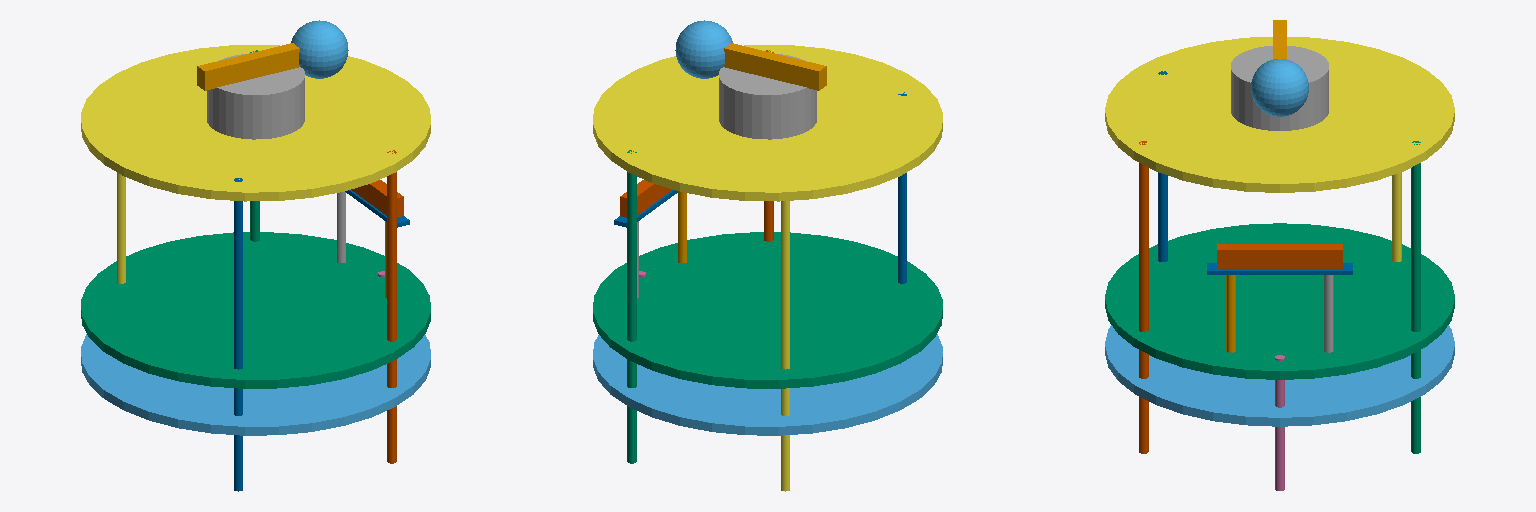
--- What the picture shows (computed from the rendered views, not written in the file) ---
Views: 3 orthographic renders of the robot side by side, from view 1: azimuth 30°, elevation 25°; view 2: azimuth 150°, elevation 25°; view 3: azimuth 270°, elevation 25°.
Model turtlebot2 with 26 links and 25 joints (2 continuous, 23 fixed), rooted at base_footprint, posed all joints at 0.
Visible links, largest first — view 1: middle_base_link, upper_base_link, lower_base_link, lidar_link, dir_link, base_tick4_link, dir_link2, base_tick3_link, base_tick2_link, camera_link, camera_support_tick1_link; view 2: middle_base_link, upper_base_link, lower_base_link, lidar_link, dir_link, base_tick1_link, dir_link2, base_tick2_link, base_tick3_link, camera_link, camera_support_tick2_link; view 3: middle_base_link, upper_base_link, lower_base_link, lidar_link, camera_link, dir_link2, base_tick4_link, base_tick1_link, camera_support_base_link, base_tick5_link, base_tick2_link, base_tick3_link (+3 smaller).
Link boxes in pixels (left/top/right/bottom): middle_base_link: left=81, top=232, right=430, bottom=388; upper_base_link: left=81, top=45, right=430, bottom=201; lower_base_link: left=81, top=334, right=430, bottom=435; lidar_link: left=207, top=54, right=304, bottom=139; dir_link: left=197, top=43, right=299, bottom=90; base_tick4_link: left=387, top=150, right=396, bottom=463; dir_link2: left=291, top=20, right=348, bottom=78; base_tick3_link: left=234, top=178, right=242, bottom=491; base_tick2_link: left=117, top=92, right=125, bottom=283; camera_link: left=351, top=180, right=403, bottom=217; camera_support_tick1_link: left=337, top=192, right=345, bottom=262; middle_base_link: left=593, top=232, right=942, bottom=388; upper_base_link: left=593, top=45, right=942, bottom=201; lower_base_link: left=593, top=334, right=942, bottom=435; lidar_link: left=719, top=54, right=816, bottom=139; dir_link: left=724, top=43, right=826, bottom=90; base_tick1_link: left=627, top=150, right=636, bottom=463; dir_link2: left=675, top=20, right=732, bottom=78; base_tick2_link: left=781, top=178, right=789, bottom=491; base_tick3_link: left=898, top=92, right=906, bottom=283; camera_link: left=620, top=180, right=672, bottom=217; camera_support_tick2_link: left=678, top=192, right=686, bottom=262; middle_base_link: left=1105, top=223, right=1454, bottom=379; upper_base_link: left=1105, top=37, right=1454, bottom=192; lower_base_link: left=1105, top=325, right=1454, bottom=426; lidar_link: left=1231, top=46, right=1328, bottom=130; camera_link: left=1217, top=244, right=1342, bottom=268; dir_link2: left=1251, top=59, right=1308, bottom=116; base_tick4_link: left=1139, top=141, right=1148, bottom=453; base_tick1_link: left=1411, top=141, right=1420, bottom=453; camera_support_base_link: left=1207, top=263, right=1352, bottom=274; base_tick5_link: left=1275, top=355, right=1284, bottom=490; base_tick2_link: left=1392, top=71, right=1401, bottom=261; base_tick3_link: left=1158, top=71, right=1167, bottom=261.
Bounding box of the posed robot: 0.36 × 0.36 × 0.4505 m (x, y, z).
Meshes: 2 distinct files referenced, 0 mesh visuals loaded (none loaded); not drawn: 3 (reference not matched to a file when rendering).

URDF robot description (turtlebot2):
<?xml version="1.0" ?>

<robot name="turtlebot2" xmlns:controller="http://playerstage.sourceforge.net/gazebo/xmlschema/#controller" xmlns:interface="http://playerstage.sourceforge.net/gazebo/xmlschema/#interface" xmlns:sensor="http://playerstage.sourceforge.net/gazebo/xmlschema/#sensor">
  <link name="base_footprint"/>
  <!--
       Base link is set at the bottom of the base mould.
       This is done to be compatible with the way base link
       was configured for turtlebot 1. Refer to

       https://github.com/turtlebot/turtlebot/issues/40

       To put the base link at the more oft used wheel
       axis, set the z-distance from the base_footprint
       to 0.352. 0.05949
      -->
  <joint name="base_joint" type="fixed">
    <origin rpy="0 0 0" xyz="0 0 0.0102"/>
    <parent link="base_footprint"/>
    <child link="base_link"/>
  </joint>
  <link name="base_link">
    <visual>
      <geometry>
        <!-- new mesh -->
        <mesh filename="package://turtlebot2_urdf_model/meshes/main_body.dae"/>
      </geometry>
      <origin rpy="0 0 0" xyz="0.001 0 0.05199"/>
    </visual>
    <collision name="base">
      <geometry>
        <cylinder length="0.10938" radius="0.178"/>
      </geometry>
      <origin rpy="0 0 0" xyz="0.0 0 0.06"/>
    </collision>
    <inertial>
      <!-- COM experimentally determined -->
      <origin xyz="0.01 0 0"/>
      <mass value="2.4"/>
      <!-- 2.4/2.6 kg for small/big battery pack -->
      <!-- Kobuki's inertia tensor is approximated by a cylinder with homogeneous mass distribution
             More details: http://en.wikipedia.org/wiki/List_of_moment_of_inertia_tensors
             m = 2.4 kg; h = 0.09 m; r = 0.175 m
             ixx = 1/12 * m * (3 * r^2 + h^2)
             iyy = 1/12 * m * (3 * r^2 + h^2)
             izz = 1/2 * m * r^2
          -->
      <inertia ixx="0.019995" ixy="0.0" ixz="0.0" iyy="0.019995" iyz="0.0" izz="0.03675"/>
    </inertial>
  </link>
  <joint name="wheel_left_joint" type="continuous">
    <parent link="base_link"/>
    <child link="wheel_left_link"/>
    <origin rpy="-1.5707963267948966 0 0" xyz="0.00 0.115 0.0250"/>
    <axis xyz="0 0 1"/>
  </joint>
  <link name="wheel_left_link">
    <visual>
      <geometry>
        <mesh filename="package://turtlebot2_urdf_model/meshes/wheel.dae"/>
      </geometry>
      <origin rpy="0 0 0" xyz="0 0 0"/>
    </visual>
    <collision>
      <geometry>
        <cylinder length="0.0206" radius="0.035"/>
      </geometry>
      <origin rpy="0 0 0" xyz="0 0 0"/>
    </collision>
    <inertial>
      <mass value="0.01"/>
      <origin xyz="0 0 0"/>
      <inertia ixx="0.001" ixy="0.0" ixz="0.0" iyy="0.001" iyz="0.0" izz="0.001"/>
    </inertial>
  </link>
  <joint name="wheel_right_joint" type="continuous">
    <parent link="base_link"/>
    <child link="wheel_right_link"/>
    <origin rpy="-1.5707963267948966 0 0" xyz="0.00 -0.115 0.0250"/>
    <axis xyz="0 0 1"/>
  </joint>
  <link name="wheel_right_link">
    <visual>
      <geometry>
        <mesh filename="package://turtlebot2_urdf_model/meshes/wheel.dae"/>
      </geometry>
      <origin rpy="0 0 0" xyz="0 0 0"/>
    </visual>
    <collision>
      <geometry>
        <cylinder length="0.0206" radius="0.035"/>
      </geometry>
      <origin rpy="0 0 0" xyz="0 0 0"/>
    </collision>
    <inertial>
      <mass value="0.01"/>
      <origin xyz="0 0 0"/>
      <inertia ixx="0.001" ixy="0.0" ixz="0.0" iyy="0.001" iyz="0.0" izz="0.001"/>
    </inertial>
  </link>
  <joint name="caster_front_joint" type="fixed">
    <parent link="base_link"/>
    <child link="caster_front_link"/>
    <origin rpy="-1.5707963267948966 0 0" xyz="0.115 0.0 0.007"/>
  </joint>
  <link name="caster_front_link">
    <collision>
      <geometry>
        <cylinder length="0.0176" radius="0.017"/>
      </geometry>
      <origin rpy="0 0 0" xyz="0 0 0"/>
    </collision>
    <inertial>
      <mass value="0.01"/>
      <origin xyz="0 0 0"/>
      <inertia ixx="0.001" ixy="0.0" ixz="0.0" iyy="0.001" iyz="0.0" izz="0.001"/>
    </inertial>
  </link>
  <joint name="caster_back_joint" type="fixed">
    <parent link="base_link"/>
    <child link="caster_back_link"/>
    <origin rpy="-1.5707963267948966 0 0" xyz="-0.135 0.0 0.009"/>
  </joint>
  <link name="caster_back_link">
    <collision>
      <geometry>
        <cylinder length="0.0176" radius="0.017"/>
      </geometry>
      <origin rpy="0 0 0" xyz="0 0 0"/>
    </collision>
    <inertial>
      <mass value="0.01"/>
      <origin xyz="0 0 0"/>
      <inertia ixx="0.001" ixy="0.0" ixz="0.0" iyy="0.001" iyz="0.0" izz="0.001"/>
    </inertial>
  </link>
  <!-- Kobuki's sensors -->
  <joint name="gyro_joint" type="fixed">
    <axis xyz="0 1 0"/>
    <origin rpy="0 0 0" xyz="0.056 0.062 0.0202"/>
    <parent link="base_link"/>
    <child link="gyro_link"/>
  </joint>
  <link name="gyro_link">
    <inertial>
      <mass value="0.001"/>
      <origin rpy="0 0 0" xyz="0 0 0"/>
      <inertia ixx="0.0001" ixy="0" ixz="0" iyy="0.000001" iyz="0" izz="0.0001"/>
    </inertial>
  </link>
  <joint name="cliff_sensor_left_joint" type="fixed">
    <origin rpy="0 1.5707963267948966 0" xyz="0.08734 0.13601 0.0214"/>
    <parent link="base_link"/>
    <child link="cliff_sensor_left_link"/>
  </joint>
  <link name="cliff_sensor_left_link">
    <inertial>
      <mass value="0.0001"/>
      <origin xyz="0 0 0"/>
      <inertia ixx="0.0001" ixy="0.0" ixz="0.0" iyy="0.0001" iyz="0.0" izz="0.0001"/>
    </inertial>
  </link>
  <joint name="cliff_sensor_right_joint" type="fixed">
    <origin rpy="0 1.5707963267948966 0" xyz="0.085 -0.13601 0.0214"/>
    <parent link="base_link"/>
    <child link="cliff_sensor_right_link"/>
  </joint>
  <link name="cliff_sensor_right_link">
    <inertial>
      <mass value="0.0001"/>
      <origin xyz="0 0 0"/>
      <inertia ixx="0.0001" ixy="0.0" ixz="0.0" iyy="0.0001" iyz="0.0" izz="0.0001"/>
    </inertial>
  </link>
  <joint name="cliff_sensor_front_joint" type="fixed">
    <origin rpy="0 1.5707963267948966 0" xyz="0.156 0.00 0.0214"/>
    <parent link="base_link"/>
    <child link="cliff_sensor_front_link"/>
  </joint>
  <link name="cliff_sensor_front_link">
    <inertial>
      <mass value="0.0001"/>
      <origin xyz="0 0 0"/>
      <inertia ixx="0.0001" ixy="0.0" ixz="0.0" iyy="0.0001" iyz="0.0" izz="0.0001"/>
    </inertial>
  </link>
  <gazebo reference="wheel_left_link">
    <mu1>1.0</mu1>
    <mu2>1.0</mu2>
    <kp>1000000.0</kp>
    <kd>100.0</kd>
    <minDepth>0.001</minDepth>
    <maxVel>1.0</maxVel>
  </gazebo>
  <gazebo reference="wheel_right_link">
    <mu1>1.0</mu1>
    <mu2>1.0</mu2>
    <kp>1000000.0</kp>
    <kd>100.0</kd>
    <minDepth>0.001</minDepth>
    <maxVel>1.0</maxVel>
  </gazebo>
  <gazebo reference="caster_front_link">
    <mu1>0.0</mu1>
    <mu2>0.0</mu2>
    <kp>1000000.0</kp>
    <kd>100.0</kd>
    <minDepth>0.001</minDepth>
    <maxVel>1.0</maxVel>
  </gazebo>
  <gazebo reference="caster_back_link">
    <mu1>0.0</mu1>
    <mu2>0.0</mu2>
    <kp>1000000.0</kp>
    <kd>100.0</kd>
    <minDepth>0.001</minDepth>
    <maxVel>1.0</maxVel>
  </gazebo>
  <gazebo reference="base_link">
    <mu1>0.3</mu1>
    <mu2>0.3</mu2>
    <sensor name="bumpers" type="contact">
      <always_on>1</always_on>
      <update_rate>50.0</update_rate>
      <visualize>true</visualize>
      <contact>
        <collision>base_footprint_fixed_joint_lump__base_collision</collision>
      </contact>
    </sensor>
  </gazebo>
  <gazebo reference="cliff_sensor_left_link">
    <sensor name="cliff_sensor_left" type="ray">
      <always_on>true</always_on>
      <update_rate>50</update_rate>
      <visualize>true</visualize>
      <ray>
        <scan>
          <horizontal>
            <samples>50</samples>
            <resolution>1.0</resolution>
            <min_angle>-0.0436</min_angle>
            <!-- -2.5 degree -->
            <max_angle>0.0436</max_angle>
            <!-- 2.5 degree -->
          </horizontal>
          <!--            Can't use vertical rays until this bug is resolved: -->
          <!--            https://bitbucket.org/osrf/gazebo/issue/509/vertical-sensor-doesnt-works -->
          <!-- 	          <vertical> -->
          <!-- 	            <samples>50</samples> -->
          <!-- 	            <resolution>1.0</resolution> -->
          <!-- 	            <min_angle>-0.0436</min_angle>  -2.5 degree -->
          <!-- 	            <max_angle>0.0436</max_angle> 2.5 degree -->
          <!-- 	          </vertical> -->
        </scan>
        <range>
          <min>0.01</min>
          <max>0.15</max>
          <resolution>1.0</resolution>
        </range>
      </ray>
    </sensor>
  </gazebo>
  <gazebo reference="cliff_sensor_right_link">
    <sensor name="cliff_sensor_right" type="ray">
      <always_on>true</always_on>
      <update_rate>50</update_rate>
      <visualize>true</visualize>
      <ray>
        <scan>
          <horizontal>
            <samples>50</samples>
            <resolution>1.0</resolution>
            <min_angle>-0.0436</min_angle>
            <!-- -2.5 degree -->
            <max_angle>0.0436</max_angle>
            <!-- 2.5 degree -->
          </horizontal>
          <!--            Can't use vertical rays until this bug is resolved: -->
          <!--            https://bitbucket.org/osrf/gazebo/issue/509/vertical-sensor-doesnt-works -->
          <!-- 	          <vertical> -->
          <!-- 	            <samples>50</samples> -->
          <!-- 	            <resolution>1.0</resolution> -->
          <!-- 	            <min_angle>-0.0436</min_angle>  -2.5 degree -->
          <!-- 	            <max_angle>0.0436</max_angle> 2.5 degree -->
          <!-- 	          </vertical> -->
        </scan>
        <range>
          <min>0.01</min>
          <max>0.15</max>
          <resolution>1.0</resolution>
        </range>
      </ray>
    </sensor>
  </gazebo>
  <gazebo reference="cliff_sensor_front_link">
    <sensor name="cliff_sensor_front" type="ray">
      <always_on>true</always_on>
      <update_rate>50</update_rate>
      <visualize>true</visualize>
      <ray>
        <scan>
          <horizontal>
            <samples>50</samples>
            <resolution>1.0</resolution>
            <min_angle>-0.0436</min_angle>
            <!-- -2.5 degree -->
            <max_angle>0.0436</max_angle>
            <!-- 2.5 degree -->
          </horizontal>
          <!-- 	          Can't use vertical rays until this bug is resolved: -->
          <!--            https://bitbucket.org/osrf/gazebo/issue/509/vertical-sensor-doesnt-works -->
          <!-- 	          <vertical> -->
          <!-- 	            <samples>50</samples> -->
          <!-- 	            <resolution>1.0</resolution> -->
          <!-- 	            <min_angle>-0.0436</min_angle>  -2.5 degree -->
          <!-- 	            <max_angle>0.0436</max_angle> 2.5 degree -->
          <!-- 	          </vertical> -->
        </scan>
        <range>
          <min>0.01</min>
          <max>0.15</max>
          <resolution>1.0</resolution>
        </range>
      </ray>
    </sensor>
  </gazebo>
  <gazebo reference="gyro_link">
    <sensor name="imu" type="imu">
      <plugin filename="libgazebo_ros_imu_sensor.so" name="gazebo_ros_imu_controller">
      	<robotNamespace>turtlebot2</robotNamespace>
        <ros>
          <argument>~/out:=imu</argument>
        </ros>
        <output_type>sensor_msgs/msg/Imu</output_type>
        <bodyName>gyro_link</bodyName>
        <frameName>gyro_link</frameName>
        <topicName>imu_data</topicName>
      </plugin>
      <always_on>true</always_on>
      <update_rate>50</update_rate>
      <visualize>false</visualize>
      <imu>
        <noise>
          <type>gaussian</type>
          <rate>
            <mean>0.0</mean>
            <stddev>1.96e-06</stddev>
            <!-- 0.25 x 0.25 (deg/s) -->
            <bias_mean>0.0</bias_mean>
            <bias_stddev>0.0</bias_stddev>
          </rate>
          <accel>
            <!-- not used in the plugin and real robot, hence using tutorial values -->
            <mean>0.0</mean>
            <stddev>1.7e-2</stddev>
            <bias_mean>0.1</bias_mean>
            <bias_stddev>0.001</bias_stddev>
          </accel>
        </noise>
      </imu>
    </sensor>
  </gazebo>
  <gazebo>
    <plugin filename="libgazebo_ros_diff_drive.so" name="differential_drive_controller">
      <robotNamespace>turtlebot2</robotNamespace>
      <updateRate>10</updateRate>
      <commandTopic>cmd_vel</commandTopic>
      <leftJoint>wheel_left_joint</leftJoint>
      <rightJoint>wheel_right_joint</rightJoint>
      <wheelSeparation>0.230</wheelSeparation>
      <wheelDiameter>0.070</wheelDiameter>
      <wheelTorque>1.0</wheelTorque>
      <wheelAcceleration>1.0</wheelAcceleration>
      <!-- output -->
      <publishOdom>true</publishOdom>
      <publishOdomTF>true</publishOdomTF>
      <publishWheelTF>true</publishWheelTF>
      <odometryTopic>odom</odometryTopic>
      <odometryFrame>odom</odometryFrame>
      <robotBaseFrame>base_link</robotBaseFrame>
    </plugin>
  </gazebo>
  <material name="Gray">
    <color rgba="0.5 0.5 0.5 1"/>
  </material>
  <material name="DarkGray">
    <color rgba="0.1 0.1 0.1 0.5"/>
  </material>
  <material name="Black">
    <color rgba="0 0 0 1"/>
  </material>
  <gazebo reference="base_tick1_link">
    <material>Gazebo/Gray</material>
  </gazebo>
  <gazebo reference="base_tick2_link">
    <material>Gazebo/Gray</material>
  </gazebo>
  <gazebo reference="base_tick3_link">
    <material>Gazebo/Gray</material>
  </gazebo>
  <gazebo reference="base_tick4_link">
    <material>Gazebo/Gray</material>
  </gazebo>
  <gazebo reference="base_tick5_link">
    <material>Gazebo/Gray</material>
  </gazebo>
  <gazebo reference="camera_support_tick1_link">
    <material>Gazebo/Gray</material>
  </gazebo>
  <gazebo reference="camera_support_tick2_link">
    <material>Gazebo/Gray</material>
  </gazebo>
  <gazebo reference="lower_base_link">
    <material>Gazebo/DarkGrey</material>
  </gazebo>
  <gazebo reference="middle_base_link">
    <material>Gazebo/DarkGrey</material>
  </gazebo>
  <gazebo reference="upper_base_link">
    <material>Gazebo/DarkGrey</material>
  </gazebo>
  <gazebo reference="camera_support_base_link">
    <material>Gazebo/DarkGrey</material>
  </gazebo>
  <gazebo reference="camera_link">
    <material>Gazebo/Blue</material>
  </gazebo>
  <gazebo reference="lidar_link">
    <material>Gazebo/Black</material>
  </gazebo>
  <gazebo reference="dir_link">
    <material>Gazebo/Red</material>
  </gazebo>
  <gazebo reference="dir_link2">
    <material>Gazebo/Red</material>
  </gazebo>
  <link name="base_tick1_link">
    <visual>
      <origin rpy="0 0 0" xyz="0 0 0"/>
      <geometry>
        <cylinder length="0.35" radius="0.005"/>
      </geometry>
    </visual>
    <collision name="base">
      <origin rpy="0 0 0" xyz="0 0 0"/>
      <geometry>
        <cylinder length="0.35" radius="0.005"/>
      </geometry>
    </collision>
    <inertial>
      <mass value="0.3"/>
      <!-- cylindrical shell : Izz=m*r^2; Ixx=Iyy=1/12*m*(6*r^2+h^2) -->
      <!-- solid cylinder : Izz=(m*r^2)/2; Ixx=Iyy=1/12*m*(3*r^2+h^2) -->
      <inertia ixx="0.002385" ixy="0.00" ixz="0.00" iyy="0.002385" iyz="0.00" izz="0.00027"/>
    </inertial>
  </link>
  <joint name="base_tick1_joint" type="fixed">
    <origin rpy="0 0 0" xyz="0.08 0.14 0.25"/>
    <parent link="base_link"/>
    <child link="base_tick1_link"/>
  </joint>
  <link name="base_tick2_link">
    <visual>
      <origin rpy="0 0 0" xyz="0 0 0"/>
      <geometry>
        <cylinder length="0.35" radius="0.005"/>
      </geometry>
    </visual>
    <collision name="base">
      <origin rpy="0 0 0" xyz="0 0 0"/>
      <geometry>
        <cylinder length="0.35" radius="0.005"/>
      </geometry>
    </collision>
    <inertial>
      <mass value="0.3"/>
      <!-- cylindrical shell : Izz=m*r^2; Ixx=Iyy=1/12*m*(6*r^2+h^2) -->
      <!-- solid cylinder : Izz=(m*r^2)/2; Ixx=Iyy=1/12*m*(3*r^2+h^2) -->
      <inertia ixx="0.002385" ixy="0.00" ixz="0.00" iyy="0.002385" iyz="0.00" izz="0.00027"/>
    </inertial>
  </link>
  <joint name="base_tick2_joint" type="fixed">
    <origin rpy="0 0 0" xyz="-0.09 0.12 0.25"/>
    <parent link="base_link"/>
    <child link="base_tick2_link"/>
  </joint>
  <link name="base_tick3_link">
    <visual>
      <origin rpy="0 0 0" xyz="0 0 0"/>
      <geometry>
        <cylinder length="0.35" radius="0.005"/>
      </geometry>
    </visual>
    <collision name="base">
      <origin rpy="0 0 0" xyz="0 0 0"/>
      <geometry>
        <cylinder length="0.35" radius="0.005"/>
      </geometry>
    </collision>
    <inertial>
      <mass value="0.3"/>
      <!-- cylindrical shell : Izz=m*r^2; Ixx=Iyy=1/12*m*(6*r^2+h^2) -->
      <!-- solid cylinder : Izz=(m*r^2)/2; Ixx=Iyy=1/12*m*(3*r^2+h^2) -->
      <inertia ixx="0.002385" ixy="0.00" ixz="0.00" iyy="0.002385" iyz="0.00" izz="0.00027"/>
    </inertial>
  </link>
  <joint name="base_tick3_joint" type="fixed">
    <origin rpy="0 0 0" xyz="-0.09 -0.12 0.25"/>
    <parent link="base_link"/>
    <child link="base_tick3_link"/>
  </joint>
  <link name="base_tick4_link">
    <visual>
      <origin rpy="0 0 0" xyz="0 0 0"/>
      <geometry>
        <cylinder length="0.35" radius="0.005"/>
      </geometry>
    </visual>
    <collision name="base">
      <origin rpy="0 0 0" xyz="0 0 0"/>
      <geometry>
        <cylinder length="0.35" radius="0.005"/>
      </geometry>
    </collision>
    <inertial>
      <mass value="0.3"/>
      <!-- cylindrical shell : Izz=m*r^2; Ixx=Iyy=1/12*m*(6*r^2+h^2) -->
      <!-- solid cylinder : Izz=(m*r^2)/2; Ixx=Iyy=1/12*m*(3*r^2+h^2) -->
      <inertia ixx="0.002385" ixy="0.00" ixz="0.00" iyy="0.002385" iyz="0.00" izz="0.00027"/>
    </inertial>
  </link>
  <joint name="base_tick4_joint" type="fixed">
    <origin rpy="0 0 0" xyz="0.08 -0.14 0.25"/>
    <parent link="base_link"/>
    <child link="base_tick4_link"/>
  </joint>
  <link name="base_tick5_link">
    <visual>
      <origin rpy="0 0 0" xyz="0 0 0"/>
      <geometry>
        <cylinder length="0.15" radius="0.005"/>
      </geometry>
    </visual>
    <collision name="base">
      <origin rpy="0 0 0" xyz="0 0 0"/>
      <geometry>
        <cylinder length="0.15" radius="0.005"/>
      </geometry>
    </collision>
    <inertial>
      <mass value="0.3"/>
      <!-- cylindrical shell : Izz=m*r^2; Ixx=Iyy=1/12*m*(6*r^2+h^2) -->
      <!-- solid cylinder : Izz=(m*r^2)/2; Ixx=Iyy=1/12*m*(3*r^2+h^2) -->
      <inertia ixx="0.002385" ixy="0.00" ixz="0.00" iyy="0.002385" iyz="0.00" izz="0.00027"/>
    </inertial>
  </link>
  <joint name="base_tick5_joint" type="fixed">
    <origin rpy="0 0 0" xyz="0.15 0.0 0.14"/>
    <parent link="base_link"/>
    <child link="base_tick5_link"/>
  </joint>
  <link name="camera_support_tick1_link">
    <visual>
      <origin rpy="0 0 0" xyz="0 0 0"/>
      <geometry>
        <cylinder length="0.1" radius="0.005"/>
      </geometry>
    </visual>
    <collision name="base">
      <origin rpy="0 0 0" xyz="0 0 0"/>
      <geometry>
        <cylinder length="0.1" radius="0.005"/>
      </geometry>
    </collision>
    <inertial>
      <mass value="0.3"/>
      <!-- cylindrical shell : Izz=m*r^2; Ixx=Iyy=1/12*m*(6*r^2+h^2) -->
      <!-- solid cylinder : Izz=(m*r^2)/2; Ixx=Iyy=1/12*m*(3*r^2+h^2) -->
      <inertia ixx="0.002385" ixy="0.00" ixz="0.00" iyy="0.002385" iyz="0.00" izz="0.00027"/>
    </inertial>
  </link>
  <joint name="camera_support_tick1_joint" type="fixed">
    <origin rpy="0 0 0" xyz="0.13 0.05 0.05"/>
    <parent link="middle_base_link"/>
    <child link="camera_support_tick1_link"/>
  </joint>
  <link name="camera_support_tick2_link">
    <visual>
      <origin rpy="0 0 0" xyz="0 0 0"/>
      <geometry>
        <cylinder length="0.1" radius="0.005"/>
      </geometry>
    </visual>
    <collision name="base">
      <origin rpy="0 0 0" xyz="0 0 0"/>
      <geometry>
        <cylinder length="0.1" radius="0.005"/>
      </geometry>
    </collision>
    <inertial>
      <mass value="0.3"/>
      <!-- cylindrical shell : Izz=m*r^2; Ixx=Iyy=1/12*m*(6*r^2+h^2) -->
      <!-- solid cylinder : Izz=(m*r^2)/2; Ixx=Iyy=1/12*m*(3*r^2+h^2) -->
      <inertia ixx="0.002385" ixy="0.00" ixz="0.00" iyy="0.002385" iyz="0.00" izz="0.00027"/>
    </inertial>
  </link>
  <joint name="camera_support_tick2_joint" type="fixed">
    <origin rpy="0 0 0" xyz="0.13 -0.05 0.05"/>
    <parent link="middle_base_link"/>
    <child link="camera_support_tick2_link"/>
  </joint>
  <link name="lower_base_link">
    <visual>
      <origin rpy="0 0 0" xyz="0 0 0"/>
      <geometry>
        <cylinder length="0.01" radius="0.18"/>
      </geometry>
    </visual>
    <collision name="base">
      <origin rpy="0 0 0" xyz="0 0 0"/>
      <geometry>
        <cylinder length="0.01" radius="0.18"/>
      </geometry>
    </collision>
    <inertial>
      <mass value="0.3"/>
      <!-- cylindrical shell : Izz=m*r^2; Ixx=Iyy=1/12*m*(6*r^2+h^2) -->
      <!-- solid cylinder : Izz=(m*r^2)/2; Ixx=Iyy=1/12*m*(3*r^2+h^2) -->
      <inertia ixx="0.002385" ixy="0.00" ixz="0.00" iyy="0.002385" iyz="0.00" izz="0.00027"/>
    </inertial>
  </link>
  <joint name="lower_base_joint" type="fixed">
    <origin rpy="0 0 0" xyz="0.0 0.0 0.155"/>
    <parent link="base_link"/>
    <child link="lower_base_link"/>
  </joint>
  <link name="middle_base_link">
    <visual>
      <origin rpy="0 0 0" xyz="0 0 0"/>
      <geometry>
        <cylinder length="0.01" radius="0.18"/>
      </geometry>
    </visual>
    <collision name="base">
      <origin rpy="0 0 0" xyz="0 0 0"/>
      <geometry>
        <cylinder length="0.01" radius="0.18"/>
      </geometry>
    </collision>
    <inertial>
      <mass value="0.3"/>
      <!-- cylindrical shell : Izz=m*r^2; Ixx=Iyy=1/12*m*(6*r^2+h^2) -->
      <!-- solid cylinder : Izz=(m*r^2)/2; Ixx=Iyy=1/12*m*(3*r^2+h^2) -->
      <inertia ixx="0.002385" ixy="0.00" ixz="0.00" iyy="0.002385" iyz="0.00" izz="0.00027"/>
    </inertial>
  </link>
  <joint name="middle_base_joint" type="fixed">
    <origin rpy="0 0 0" xyz="0.0 0.0 0.208"/>
    <parent link="base_link"/>
    <child link="middle_base_link"/>
  </joint>
  <link name="upper_base_link">
    <visual>
      <origin rpy="0 0 0" xyz="0 0 0"/>
      <geometry>
        <cylinder length="0.01" radius="0.18"/>
      </geometry>
    </visual>
    <collision name="base">
      <origin rpy="0 0 0" xyz="0 0 0"/>
      <geometry>
        <cylinder length="0.01" radius="0.18"/>
      </geometry>
    </collision>
    <inertial>
      <mass value="0.3"/>
      <!-- cylindrical shell : Izz=m*r^2; Ixx=Iyy=1/12*m*(6*r^2+h^2) -->
      <!-- solid cylinder : Izz=(m*r^2)/2; Ixx=Iyy=1/12*m*(3*r^2+h^2) -->
      <inertia ixx="0.002385" ixy="0.00" ixz="0.00" iyy="0.002385" iyz="0.00" izz="0.00027"/>
    </inertial>
  </link>
  <joint name="upper_base_joint" type="fixed">
    <origin rpy="0 0 0" xyz="0.0 0.0 0.42"/>
    <parent link="base_link"/>
    <child link="upper_base_link"/>
  </joint>
  <link name="camera_support_base_link">
    <visual>
      <origin rpy="0 0 0" xyz="0 0 0"/>
      <geometry>
        <box size="0.0175 0.15 0.005"/>
      </geometry>
    </visual>
    <collision name="base">
      <origin rpy="0 0 0" xyz="0 0 0"/>
      <geometry>
        <box size="0.0175 0.15 0.005"/>
      </geometry>
    </collision>
    <inertial>
      <mass value="0.3"/>
      <inertia ixx="1.0" ixy="0.0" ixz="0.0" iyy="100.0" iyz="0.0" izz="1.0"/>
    </inertial>
  </link>
  <joint name="camera_support_base_joint" type="fixed">
    <origin rpy="0 0 0" xyz="0.13 0 0.0975"/>
    <parent link="middle_base_link"/>
    <child link="camera_support_base_link"/>
  </joint>
  <link name="camera_link">
    <visual>
      <origin rpy="0 0 0" xyz="0 0 0"/>
      <geometry>
        <box size="0.015 0.130 0.022"/>
      </geometry>
    </visual>
    <collision>
      <origin rpy="0 0 0" xyz="0 0 0"/>
      <geometry>
        <box size="0.015 0.130 0.022"/>
      </geometry>
    </collision>
    <inertial>
      <origin rpy="0 0 0" xyz="0 0 0"/>
      <mass value="0.035"/>
      <inertia ixx="0.001" ixy="0" ixz="0" iyy="0.001" iyz="0" izz="0.001"/>
    </inertial>
  </link>
  <joint name="camera_joint" type="fixed">
    <parent link="base_link"/>
    <child link="camera_link"/>
    <origin rpy="0 0 0" xyz="0.13 0 0.32"/>
  </joint>
  <link name="camera_depth_frame"/>
  <joint name="camera_depth_joint" type="fixed">
    <origin rpy="-1.5707963267948966 0 -1.5707963267948966" xyz="0 0 0"/>
    <parent link="camera_link"/>
    <child link="camera_depth_frame"/>
  </joint>
  <gazebo reference="camera_link">
    <sensor name="depth_camera" type="depth">
      <visualize>true</visualize>
      <update_rate>30.0</update_rate>
      <camera name="camera">
        <horizontal_fov>1.047198</horizontal_fov>
        <image>
          <width>640</width>
          <height>480</height>
          <format>R8G8B8</format>
        </image>
        <clip>
          <near>0.05</near>
          <far>6</far>
        </clip>
      </camera>
      <plugin filename="libgazebo_ros_camera.so" name="depth_camera_controller">
        <robotNamespace>turtlebot2</robotNamespace>
        <baseline>0.2</baseline>
        <alwaysOn>true</alwaysOn>
        <updateRate>0.0</updateRate>
        <cameraName>camera</cameraName>
        <frameName>camera_depth_frame</frameName>
        <pointCloudCutoff>0.5</pointCloudCutoff>
        <pointCloudCutoffMax>6.0</pointCloudCutoffMax>
        <distortionK1>0</distortionK1>
        <distortionK2>0</distortionK2>
        <distortionK3>0</distortionK3>
        <distortionT1>0</distortionT1>
        <distortionT2>0</distortionT2>
        <CxPrime>0</CxPrime>
        <Cx>0</Cx>
        <Cy>0</Cy>
        <focalLength>0</focalLength>
        <hackBaseline>0</hackBaseline>
      </plugin>
    </sensor>
  </gazebo>
  <link name="lidar_link">
    <inertial>
      <origin rpy="0 0 0" xyz="0 0 0"/>
      <mass value="0.125"/>
      <inertia ixx="0.001" ixy="0" ixz="0" iyy="0.001" iyz="0" izz="0.001"/>
    </inertial>
    <collision>
      <origin rpy="0 0 0" xyz="0 0 0"/>
      <geometry>
        <cylinder length="0.055" radius="0.0508"/>
      </geometry>
    </collision>
    <visual>
      <origin rpy="0 0 0" xyz="0 0 0"/>
      <geometry>
        <cylinder length="0.055" radius="0.0508"/>
      </geometry>
    </visual>
  </link>
  <joint name="lidar_joint" type="fixed">
    <parent link="upper_base_link"/>
    <child link="lidar_link"/>
    <origin rpy="0 0 0" xyz="0 0 0.0275"/>
  </joint>
    <gazebo reference="lidar_link">
    <sensor name="lidar" type="ray">
      <always_on>false</always_on>
      <visualize>false</visualize>
      <update_rate>5</update_rate>
      <ray>
        <scan>
          <horizontal>
            <samples>360</samples>
            <resolution>1.000000</resolution>
            <min_angle>0.000000</min_angle>
            <max_angle>6.280000</max_angle>
          </horizontal>
        </scan>
        <range>
          <min>0.120000</min>
          <max>3.5</max>
          <resolution>0.015000</resolution>
        </range>
        <noise>
          <type>gaussian</type>
          <mean>0.0</mean>
          <stddev>0.01</stddev>
        </noise>
      </ray>
      <plugin filename="libgazebo_ros_ray_sensor.so" name="scan">
        <ros>
          <remapping>~/out:=scan</remapping>
        </ros>
        <output_type>sensor_msgs/LaserScan</output_type>
        <frameName>lidar_link</frameName>
      </plugin>
    </sensor>
  </gazebo>
   <link name="dir_link">
    <inertial>
      <origin rpy="0 0 0" xyz="0 0 0"/>
      <mass value="0.0"/>
      <inertia ixx="0.001" ixy="0" ixz="0" iyy="0.0" iyz="0" izz="0.0"/>
    </inertial>
    <collision>
      <origin rpy="0 0 0" xyz="0 0 0"/>
      <geometry>
        <box size="0.130 0.015 0.022"/>
      </geometry>
    </collision>
    <visual>
      <origin rpy="0 0 0" xyz="0 0 0"/>
      <geometry>
        <box size="0.130 0.015 0.022"/>
      </geometry>
    </visual>
  </link>
  <joint name="dir_link" type="fixed">
    <parent link="lidar_link"/>
    <child link="dir_link"/>
    <origin rpy="0 0 0" xyz="0 0 0.038"/>
  </joint>
  
	<link name="dir_link2">
    <inertial>
      <origin rpy="0 0 0" xyz="0 0 0"/>
      <mass value="0.0"/>
      <inertia ixx="0.001" ixy="0" ixz="0" iyy="0.0" iyz="0" izz="0.0"/>
    </inertial>
    <collision>
      <origin rpy="0 0 0" xyz="0 0 0"/>
      <geometry>
        <sphere radius="0.03"/>
      </geometry>
    </collision>
    <visual>
      <origin rpy="0 0 0" xyz="0 0 0"/>
      <geometry>
        <sphere radius="0.03"/>
      </geometry>
    </visual>
  </link>
  <joint name="dir_link2" type="fixed">
    <parent link="lidar_link"/>
    <child link="dir_link2"/>
    <origin rpy="0 0 0" xyz="0.075 0 0.038"/>
  </joint>
</robot>
